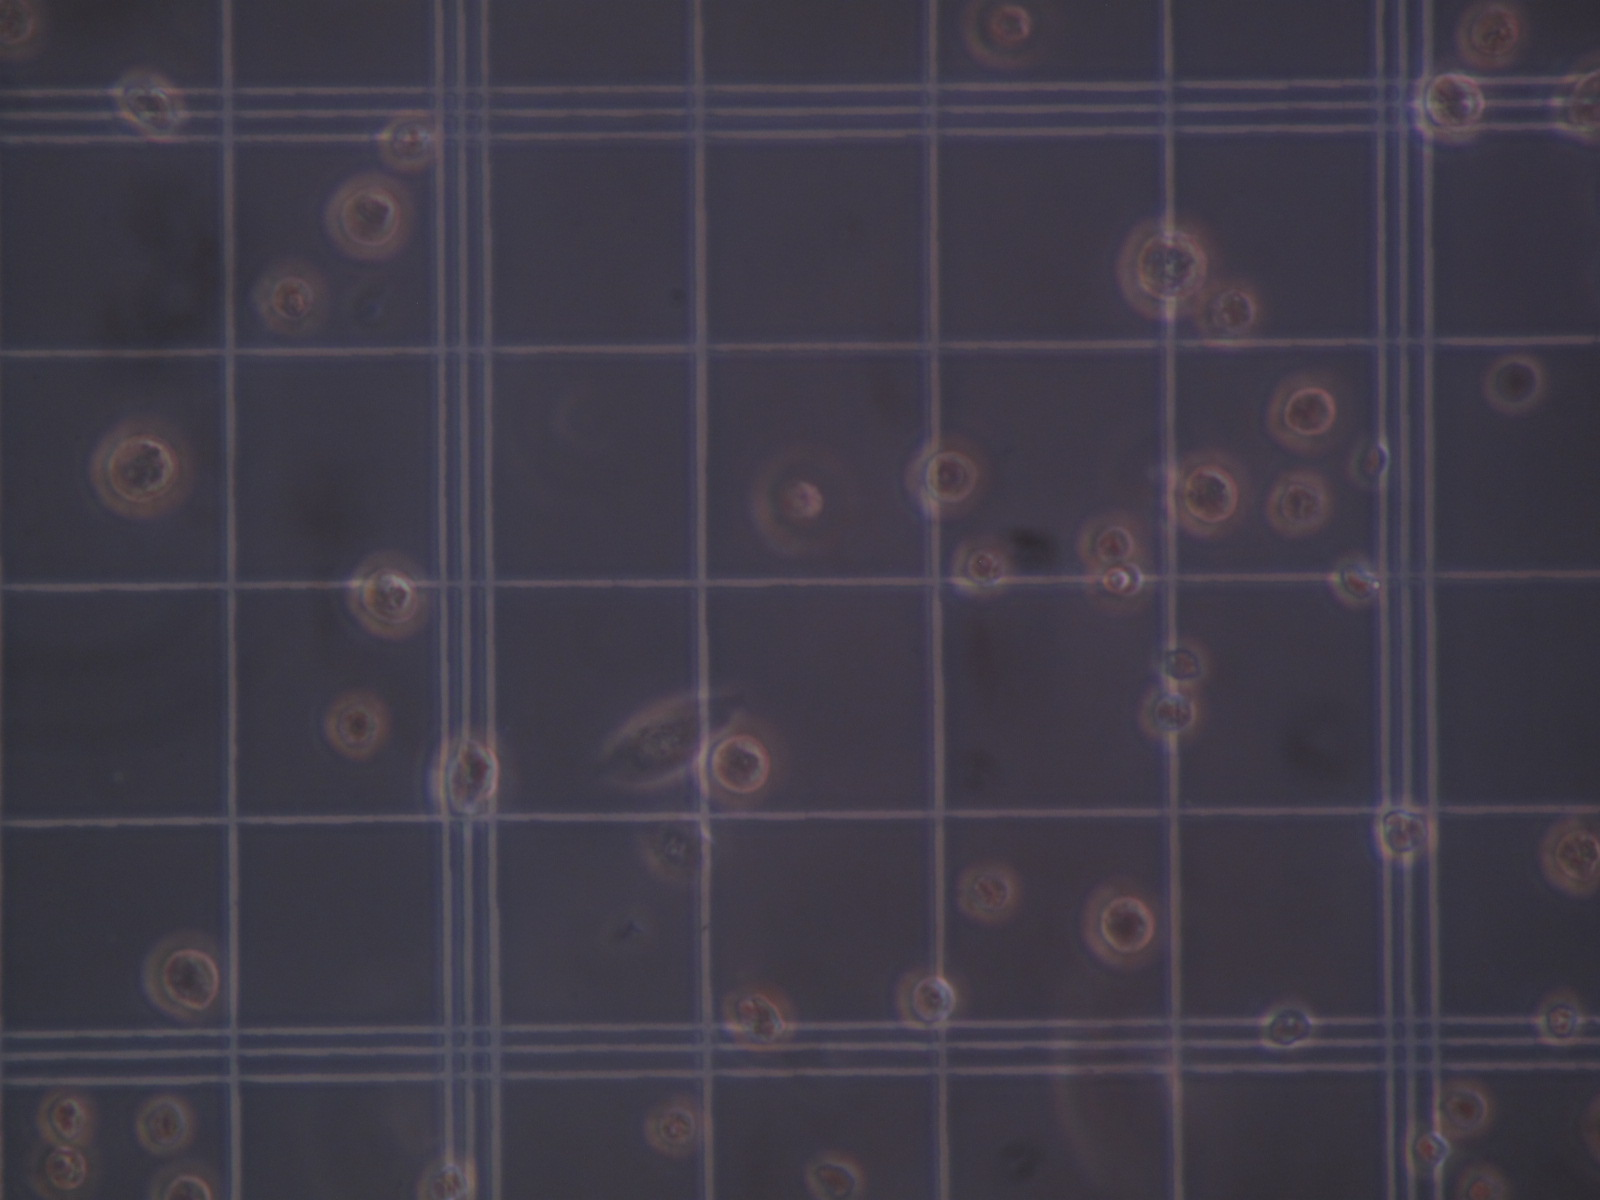hemo: (88, 420, 188, 519), (1116, 219, 1214, 319), (692, 720, 784, 811), (324, 171, 414, 262), (752, 449, 826, 557), (1080, 879, 1165, 971), (1264, 367, 1353, 453), (345, 548, 431, 638), (140, 930, 220, 1020), (1167, 450, 1246, 539), (425, 735, 505, 821), (902, 441, 989, 517), (959, 1, 1049, 69), (249, 256, 328, 333), (721, 981, 797, 1054), (1410, 72, 1485, 145), (110, 71, 189, 139), (1541, 818, 1600, 895), (1192, 282, 1259, 350), (319, 692, 388, 758), (1264, 469, 1329, 537), (1450, 8, 1519, 72), (1480, 353, 1545, 417), (641, 1095, 708, 1157), (1374, 799, 1437, 863), (896, 968, 957, 1034), (375, 112, 441, 173), (25, 1145, 94, 1200), (1078, 511, 1144, 567), (1551, 67, 1600, 141), (955, 865, 1015, 924), (1082, 561, 1148, 615), (135, 1092, 191, 1153), (951, 541, 1014, 596), (40, 1087, 96, 1147), (1434, 1079, 1490, 1137), (1149, 638, 1208, 689), (1139, 691, 1198, 742), (803, 1152, 866, 1200), (1534, 988, 1584, 1046), (1332, 553, 1382, 609), (1259, 1002, 1314, 1053), (151, 1160, 220, 1200), (1403, 1123, 1453, 1176), (417, 1158, 477, 1200), (1455, 1163, 1502, 1200)
